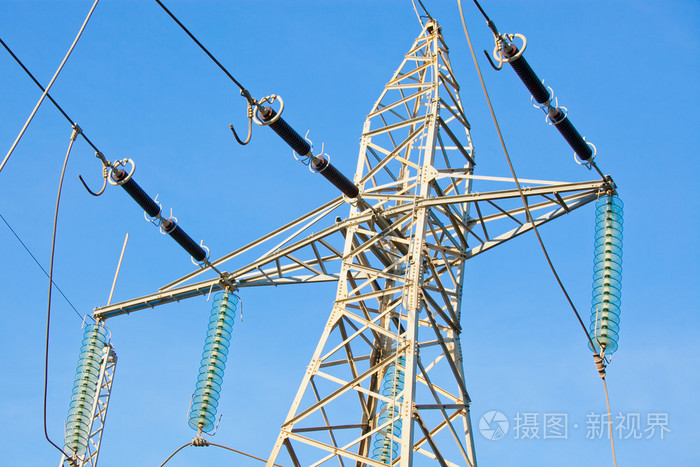insulator: (187, 293, 242, 428), (586, 197, 627, 356), (64, 322, 108, 455), (370, 361, 403, 466)
